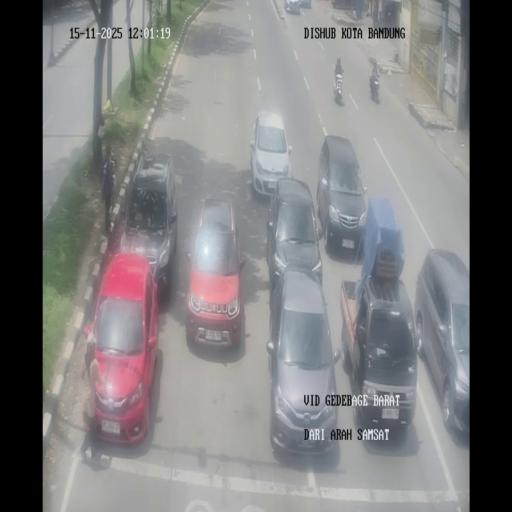car: (86, 252, 160, 444), (266, 268, 340, 456), (340, 271, 418, 440), (414, 251, 470, 441), (185, 195, 247, 348), (119, 153, 178, 299), (264, 176, 321, 300), (319, 136, 371, 260), (249, 111, 291, 200)
truck: (333, 64, 344, 104), (369, 67, 380, 103), (365, 0, 372, 18)
